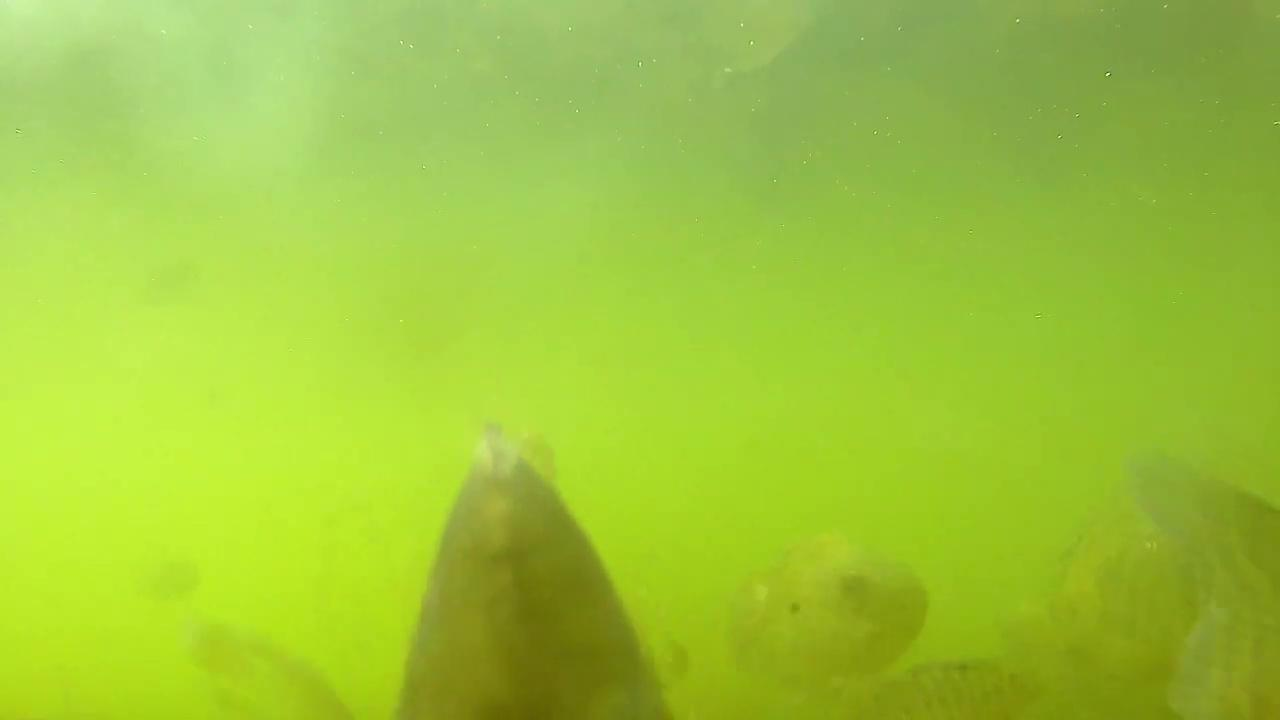Tilapia: (719, 514, 926, 690)
